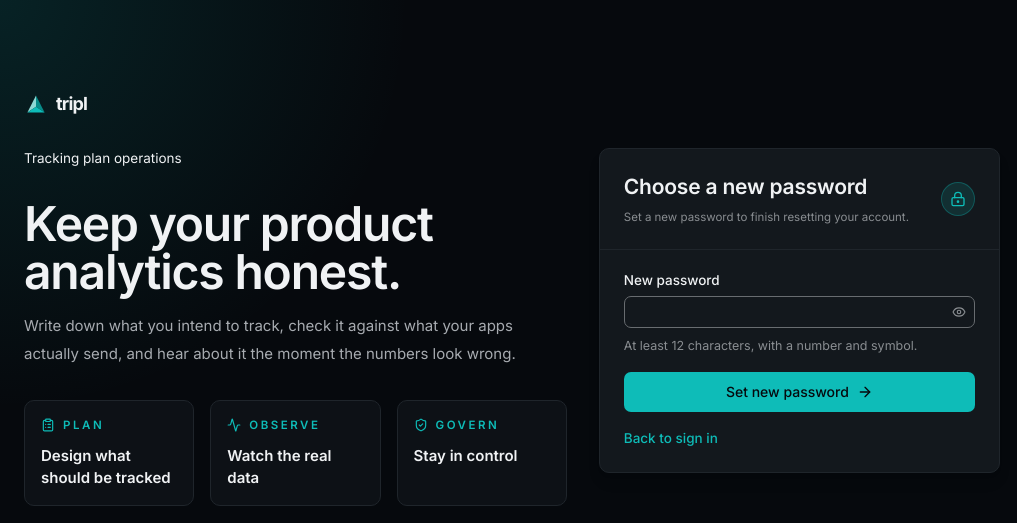
Test case: AuthPage › enters reset mode from an emailed ?reset_token link and confirms a new password
The image size is (1017, 523).
Expected: the heading "Choose a new password" is shown, [624,173,909,201]
In the password field labelled "New password": (799, 312) [624,296,975,328], type "BrandNewPass9!"
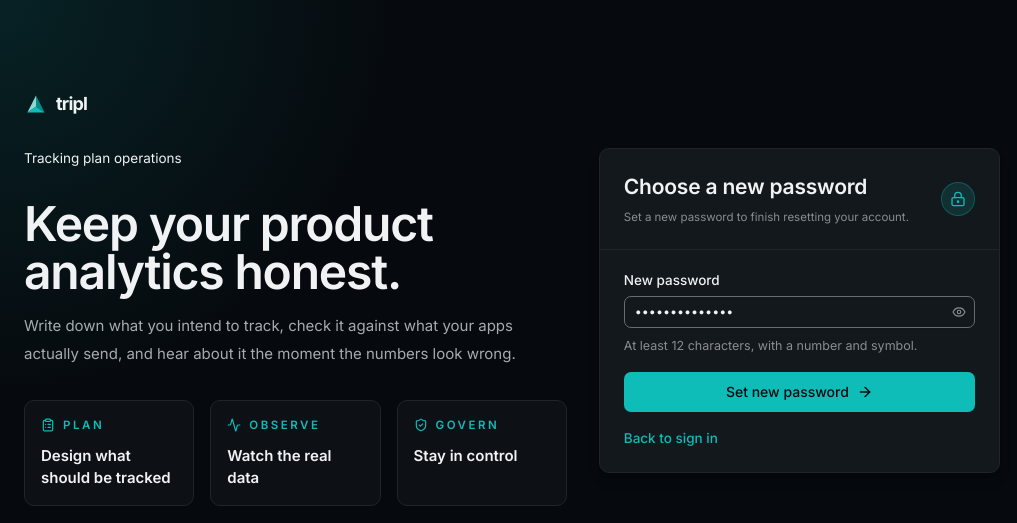
Click the button "Set new password": (799, 392) [624,372,975,412]
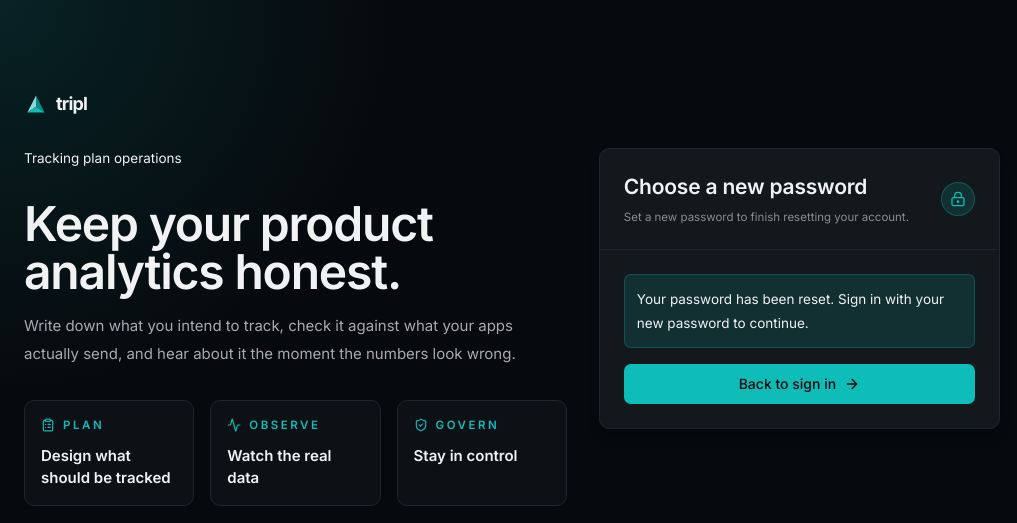
Result: the text "Your password has been reset. Sign in with your new password to continue." is shown at [624,274,975,348]
